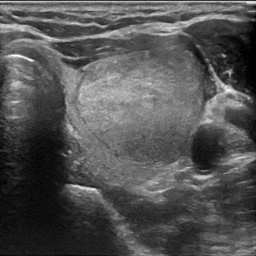mass: (74, 46, 207, 163)
